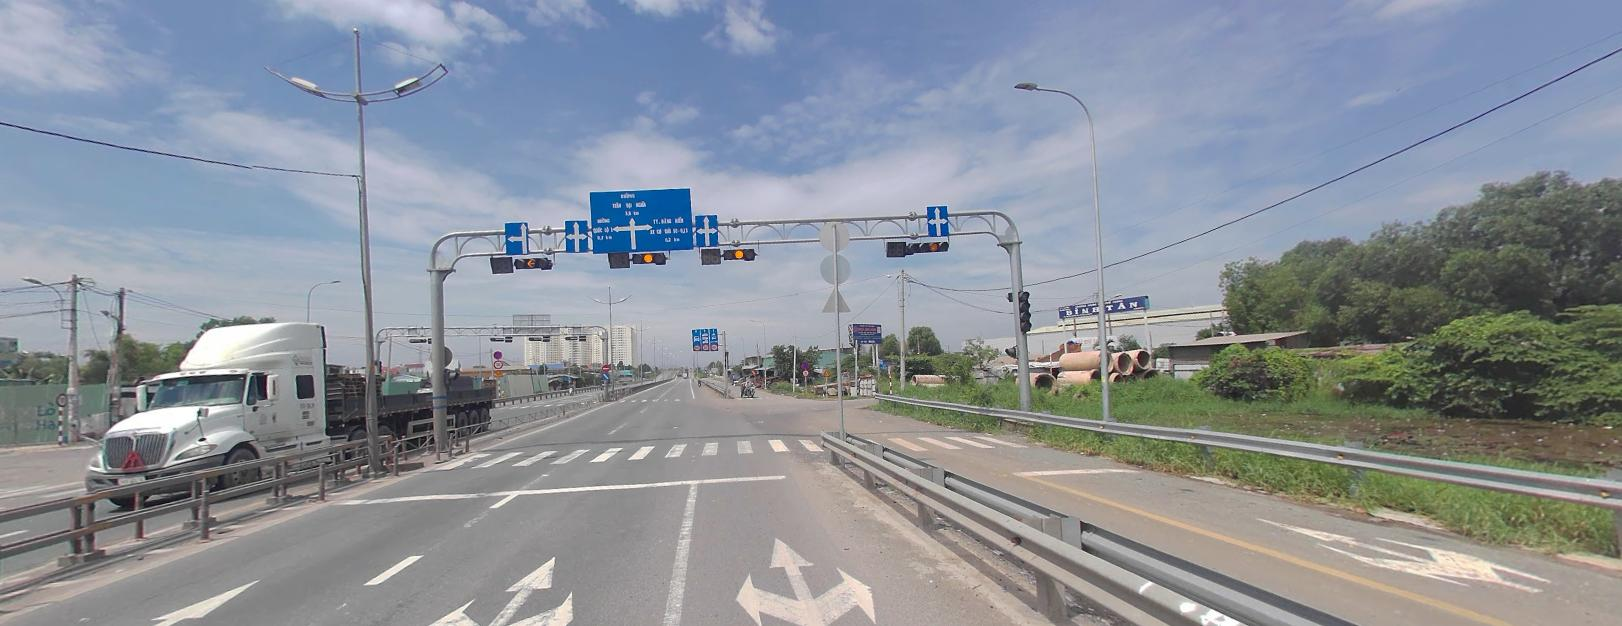Cam con lai: (493, 358, 501, 366), (693, 342, 699, 348), (710, 342, 716, 348), (702, 342, 708, 348)
Cam dung va do: (493, 349, 501, 357), (801, 360, 808, 367)
Cam nguoc chieu: (602, 362, 609, 369)
Cam re: (802, 368, 808, 374)
Hieu lenh: (602, 371, 609, 379)
Nguy hiem: (494, 368, 503, 375), (823, 369, 828, 374)
